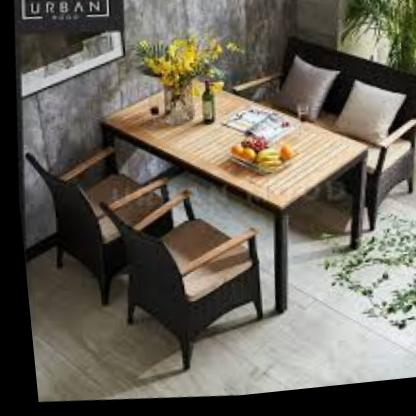Dining Table: (18, 49, 416, 398)
